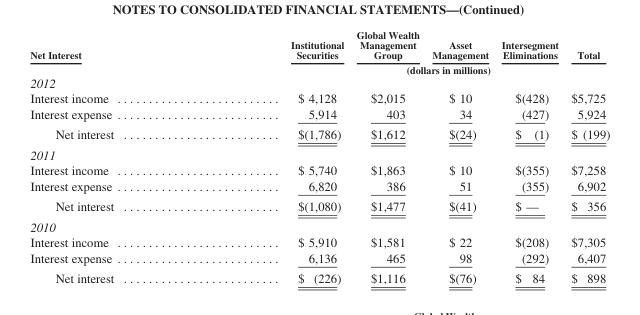table: (29, 28, 609, 284)
table column: (29, 28, 201, 284), (201, 28, 349, 284), (349, 28, 425, 284), (494, 28, 564, 284), (425, 28, 494, 284), (564, 28, 609, 284)
table column header: (29, 28, 609, 75)
table projected row header: (29, 144, 609, 162), (29, 216, 609, 234), (29, 75, 609, 90)
table row: (29, 28, 609, 62), (29, 123, 609, 144), (29, 195, 609, 216), (29, 105, 609, 123), (29, 144, 609, 162), (29, 177, 609, 195), (29, 216, 609, 234), (29, 249, 609, 267), (29, 267, 609, 284), (29, 75, 609, 90), (29, 90, 609, 105), (29, 162, 609, 177), (29, 234, 609, 249), (29, 62, 609, 75)
table spanning cell: (29, 28, 201, 75), (201, 62, 609, 75)
